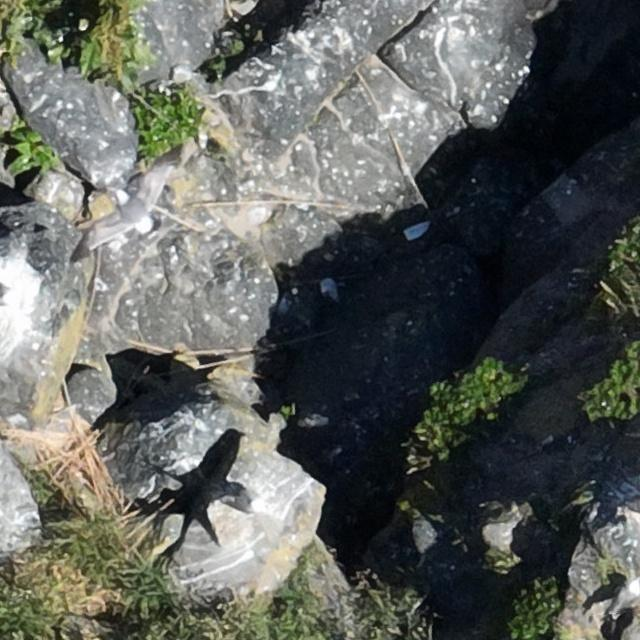F: (84, 158, 178, 252)
umineko: (601, 579, 639, 625), (227, 493, 262, 516), (320, 280, 338, 302)
